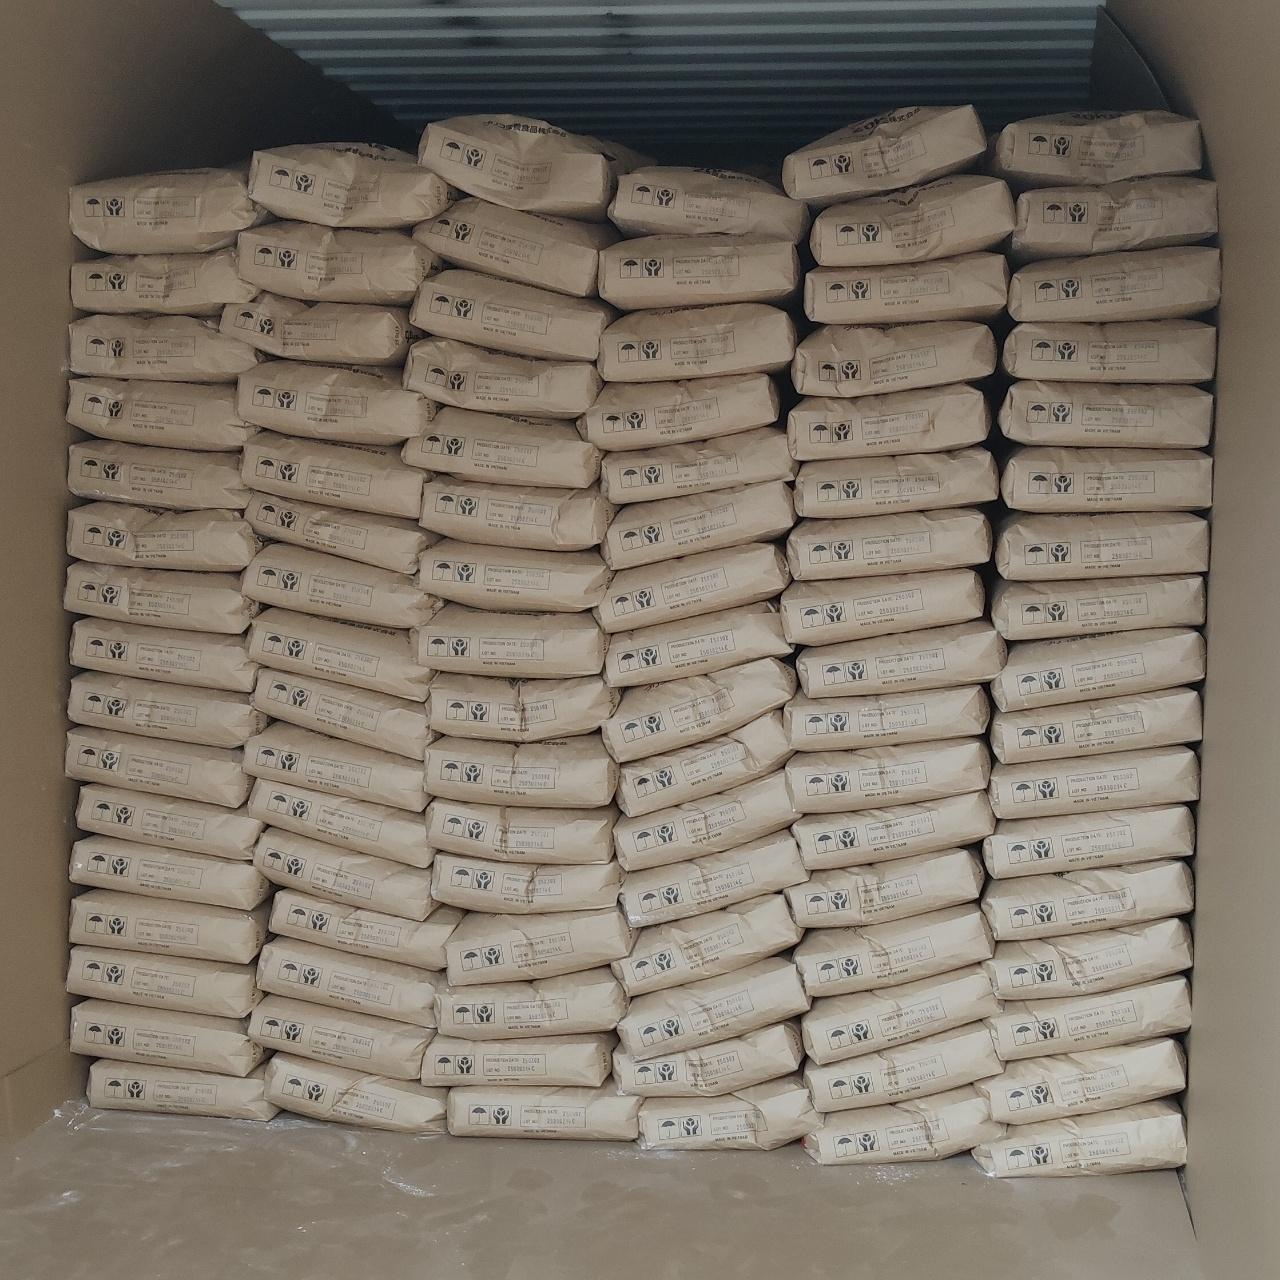sack: (417, 115, 654, 220), (783, 105, 986, 207), (413, 197, 620, 297), (803, 965, 1002, 1063), (602, 659, 794, 761), (618, 956, 808, 1057), (411, 268, 617, 360), (612, 896, 799, 995), (794, 904, 993, 998), (614, 770, 801, 870), (810, 175, 1014, 265), (619, 832, 809, 928), (1008, 177, 1217, 263), (618, 712, 787, 817), (975, 1039, 1185, 1123), (805, 1022, 1001, 1112), (992, 628, 1204, 712), (248, 143, 455, 227), (983, 975, 1190, 1060), (602, 481, 794, 570), (595, 543, 787, 632), (70, 168, 268, 253), (248, 608, 434, 700), (258, 937, 444, 1027), (241, 544, 441, 628), (983, 918, 1191, 999), (234, 361, 436, 444), (982, 860, 1192, 940), (256, 828, 435, 920), (973, 1099, 1187, 1177), (237, 222, 442, 302), (252, 668, 433, 760), (243, 722, 427, 811), (990, 110, 1201, 188), (248, 779, 433, 867), (797, 620, 1006, 697), (1008, 246, 1220, 321), (402, 407, 601, 486), (990, 688, 1201, 763), (241, 431, 425, 517), (248, 995, 435, 1080), (791, 791, 994, 869), (597, 304, 796, 382), (244, 492, 437, 573), (268, 888, 462, 969), (779, 568, 985, 645), (404, 338, 600, 417), (785, 850, 983, 928), (791, 322, 998, 397), (982, 805, 1194, 878), (68, 670, 267, 748), (577, 374, 778, 450), (605, 602, 789, 686), (804, 1085, 1001, 1163), (598, 234, 801, 309), (787, 738, 989, 813), (788, 384, 990, 459), (990, 747, 1199, 819), (66, 727, 252, 808), (602, 427, 797, 504), (70, 835, 271, 910), (608, 166, 809, 241), (445, 906, 636, 985), (787, 508, 990, 580), (72, 888, 268, 964), (805, 252, 1009, 324), (70, 999, 261, 1075), (795, 447, 998, 518), (418, 476, 614, 550), (998, 380, 1213, 447), (994, 512, 1208, 579), (613, 1020, 801, 1096), (411, 604, 605, 678), (220, 291, 413, 365), (77, 784, 265, 859), (265, 1054, 447, 1131), (64, 561, 257, 634), (67, 377, 258, 450), (1001, 447, 1212, 512), (66, 946, 259, 1017), (989, 576, 1204, 640), (638, 1073, 822, 1148), (72, 618, 258, 692), (434, 968, 628, 1039), (1003, 319, 1216, 383), (785, 685, 989, 751), (425, 736, 617, 806), (417, 540, 611, 610), (425, 673, 620, 741), (67, 502, 260, 570), (70, 314, 258, 381), (68, 440, 247, 509), (425, 798, 617, 863), (72, 248, 258, 314), (87, 1060, 277, 1121), (447, 1081, 640, 1139), (433, 853, 620, 912), (421, 1034, 617, 1085)
